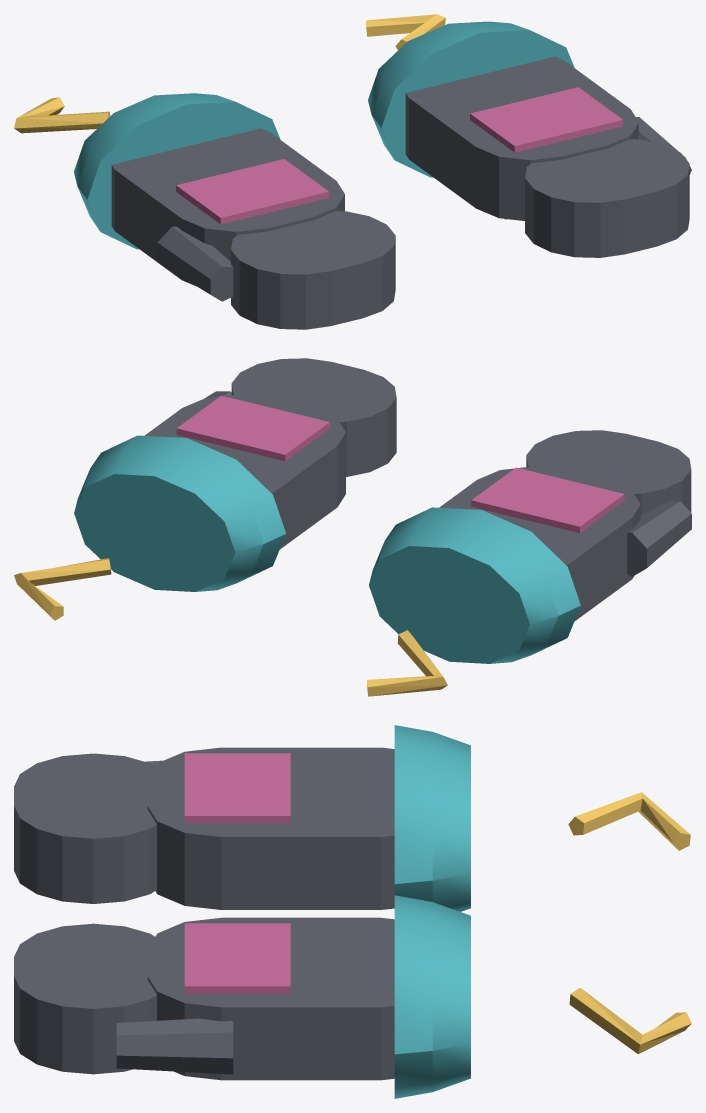
Rendered from snowboard-gear-and-freestyle-riders-snowboard-mittens-df03b569__27159.glb.
3 renders of one model, top to bottom at view 1: azimuth 30°, elevation 25°; view 2: azimuth 150°, elevation 25°; view 3: azimuth 270°, elevation 25°, orthographic. The views are drawn at different scales.
Parts seen in each view (by area): view 1: snowboard-mittens; view 2: snowboard-mittens; view 3: snowboard-mittens.
Part boxes in pixels (bbox=[...]): snowboard-mittens: bbox=[14, 14, 691, 329]; snowboard-mittens: bbox=[14, 358, 691, 696]; snowboard-mittens: bbox=[14, 725, 691, 1098].
Size of the model in its own units: 0.318 by 0.088 by 0.3198.
